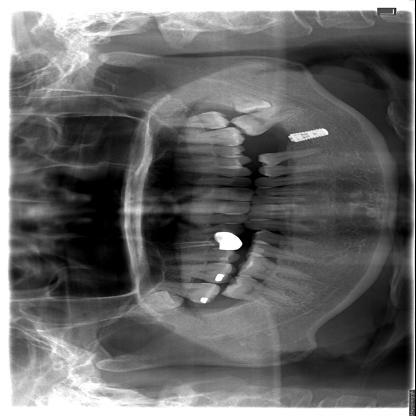ITI: (285, 127, 337, 144)
